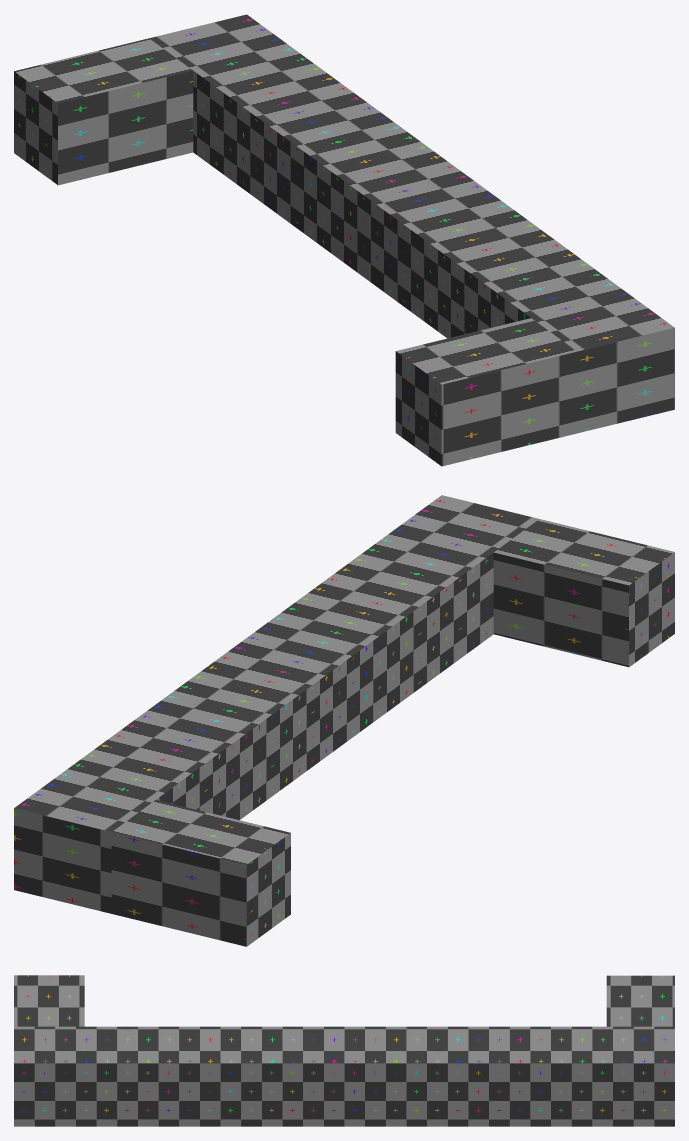
The model's file is scenario_prototype_interior_floor_03_left_2.fbx.
3 views of the same model, one above another, from view 1: azimuth 30°, elevation 25°; view 2: azimuth 150°, elevation 25°; view 3: azimuth 270°, elevation 25° (orthographic). The views are drawn at different scales.
Visible parts, largest first — view 1: interior_floor03_left_2; view 2: interior_floor03_left_2; view 3: interior_floor03_left_2.
Boxes of the visible parts, box(x1,y1,x2,y2) form: interior_floor03_left_2: box(14, 14, 674, 466); interior_floor03_left_2: box(14, 495, 674, 946); interior_floor03_left_2: box(14, 975, 674, 1126).
Size of the model in its own units: 1193 by 400 by 3791.
